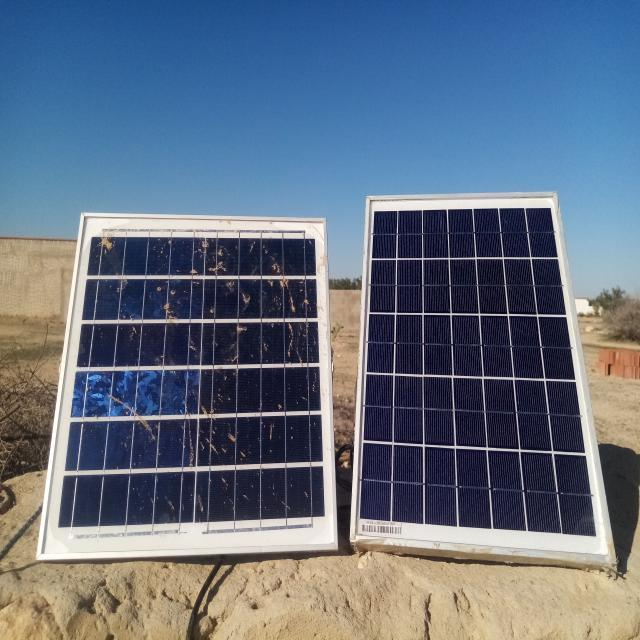faulty: (38, 213, 339, 557)
no faulty: (349, 192, 615, 566)
